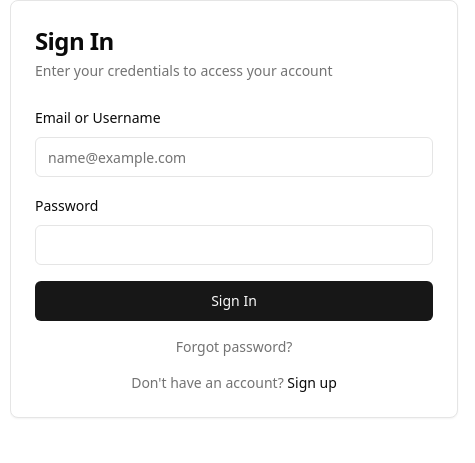
Test: LoginPage › should show validation error for empty password
Type "testuser" into the field labelled "Email or Username".
click(234, 157); type("testuser")  # box [35,137,433,177]
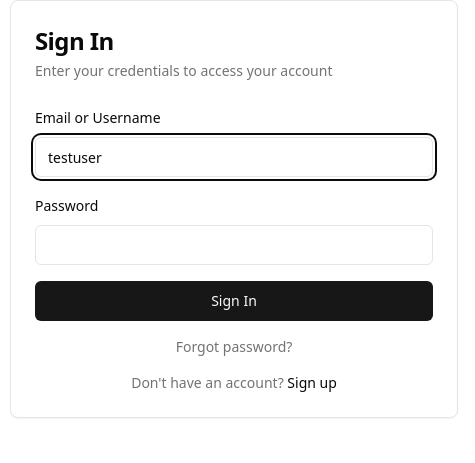
Click the button "Sign In".
click(234, 301)  # box [35,281,433,321]
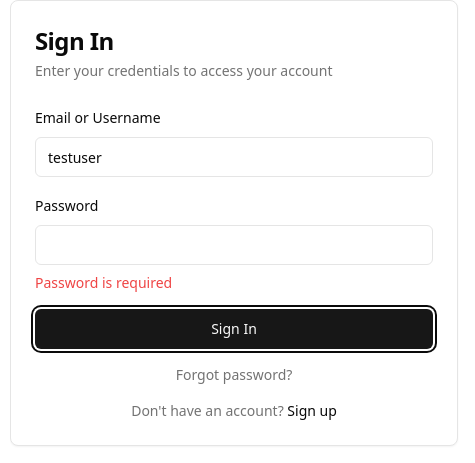
expect the text "Password is required" is shown: met, box [35,273,172,292]
